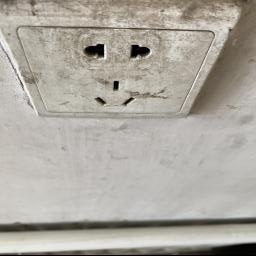outlet: (0, 0, 236, 126)
